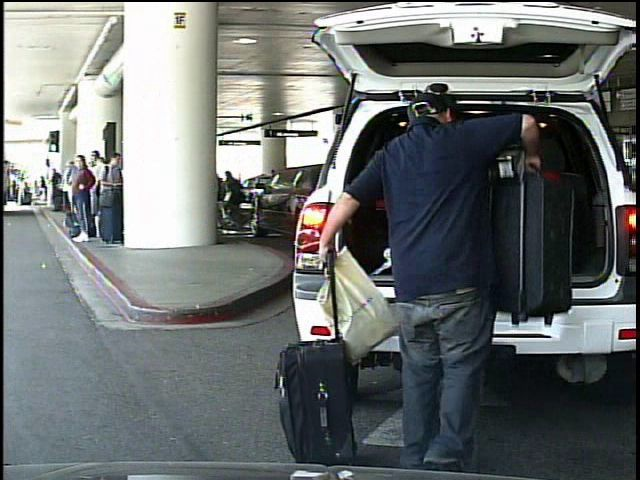person: (321, 89, 543, 473), (224, 166, 245, 233), (37, 173, 48, 202), (18, 176, 28, 206)
